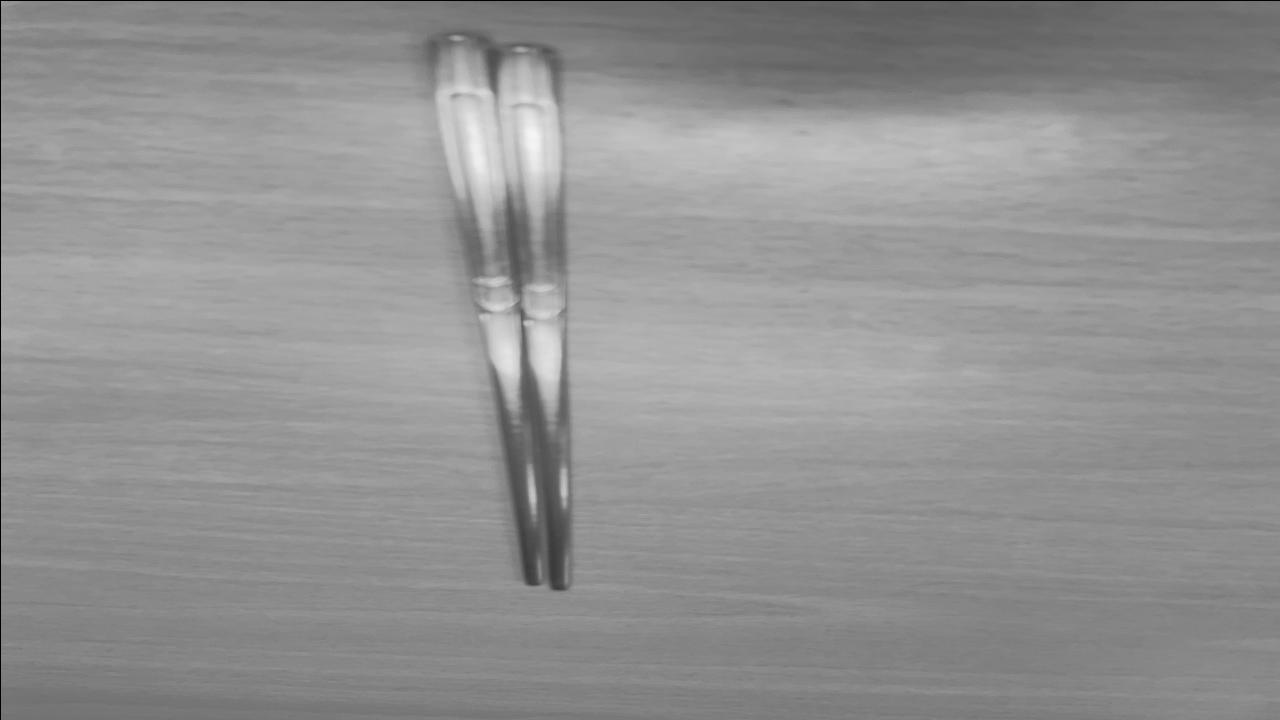chopstick: (427, 35, 567, 590)
